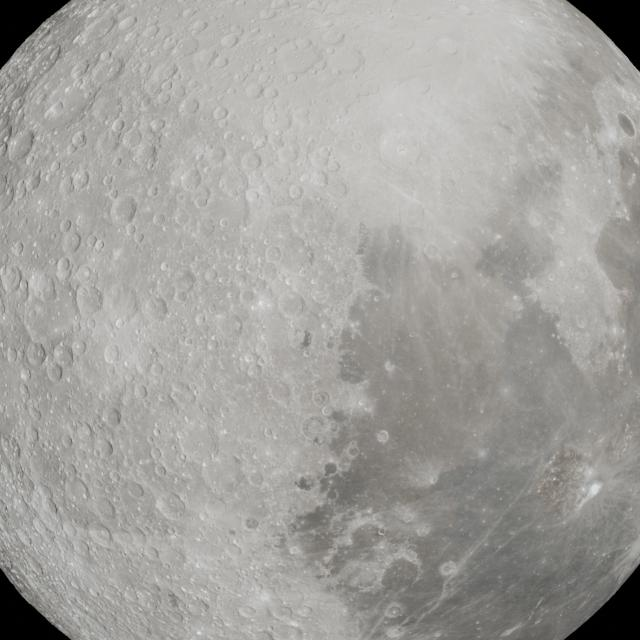crater: (27, 271, 57, 305), (76, 282, 104, 318), (6, 129, 34, 163), (218, 168, 248, 198), (154, 492, 183, 522), (110, 195, 138, 226), (276, 292, 304, 318), (307, 146, 334, 172), (1, 264, 22, 294), (121, 127, 146, 152), (179, 167, 203, 192), (61, 229, 83, 255), (52, 343, 74, 369), (26, 342, 46, 367), (55, 258, 74, 282), (101, 407, 121, 427), (72, 169, 90, 190), (103, 344, 120, 364), (244, 82, 263, 99), (219, 32, 239, 48), (117, 15, 137, 31), (70, 130, 86, 148), (190, 19, 208, 34), (149, 118, 165, 134), (28, 404, 42, 422), (212, 106, 228, 121), (288, 184, 303, 200), (149, 362, 163, 377), (59, 432, 72, 448), (6, 347, 18, 364), (194, 312, 207, 326), (19, 383, 30, 399), (264, 427, 277, 440), (154, 464, 166, 478), (20, 367, 31, 382), (245, 518, 258, 530), (326, 488, 338, 501), (321, 405, 333, 417), (148, 185, 160, 197), (243, 353, 255, 365), (94, 239, 105, 251), (219, 217, 230, 229), (157, 392, 168, 403), (159, 261, 170, 272), (134, 232, 144, 244), (115, 317, 125, 328), (301, 348, 311, 359), (184, 336, 194, 347)
